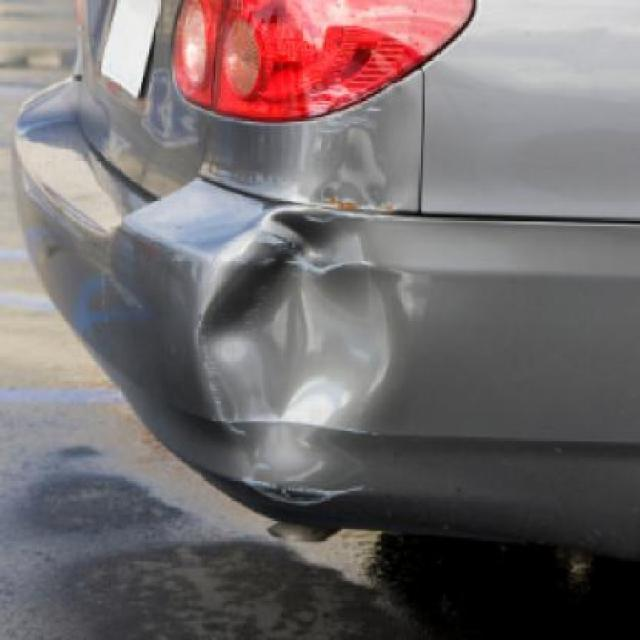dent: (189, 199, 418, 516)
